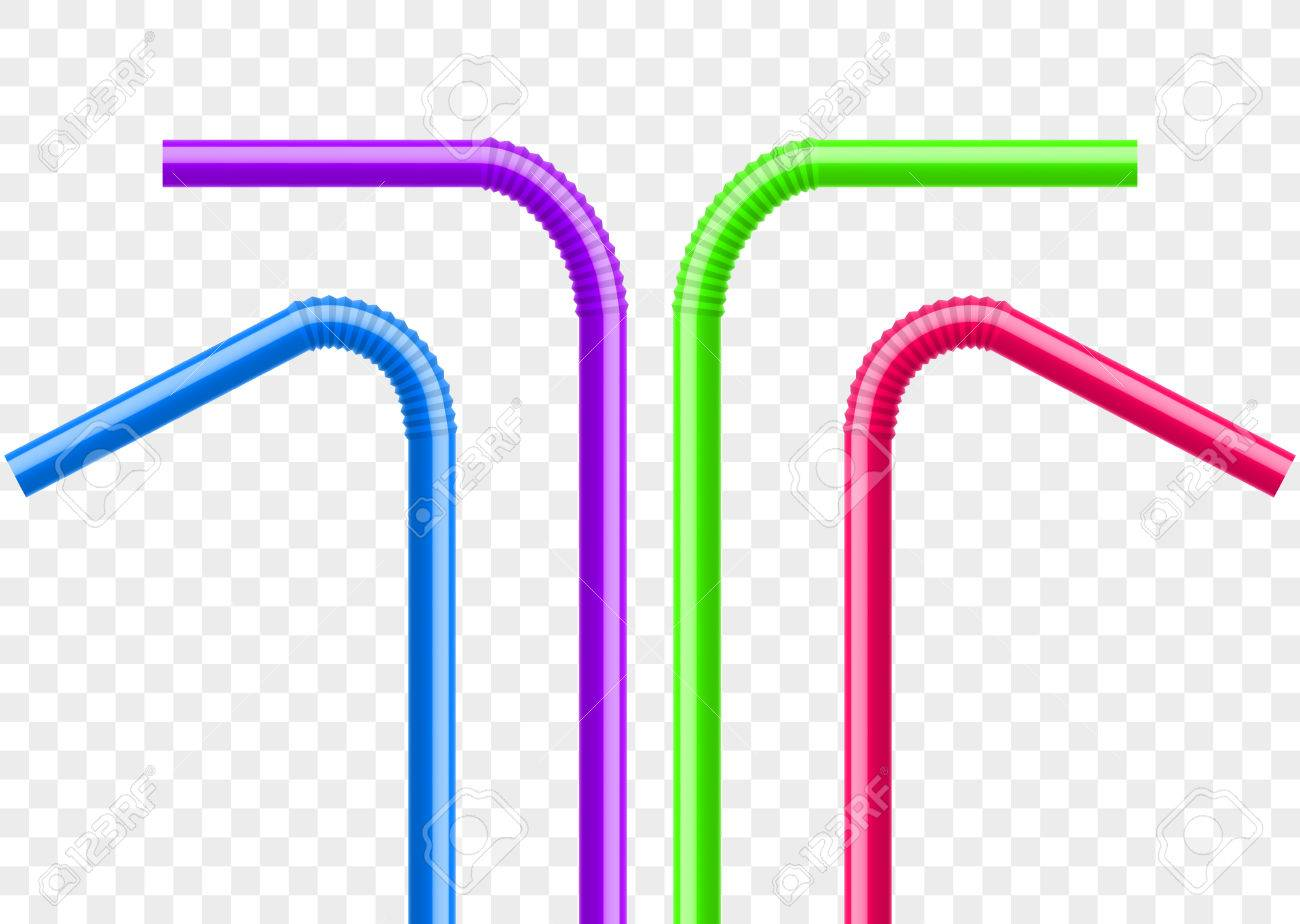Drinking Straw: (838, 284, 1300, 924), (1, 290, 462, 924)
